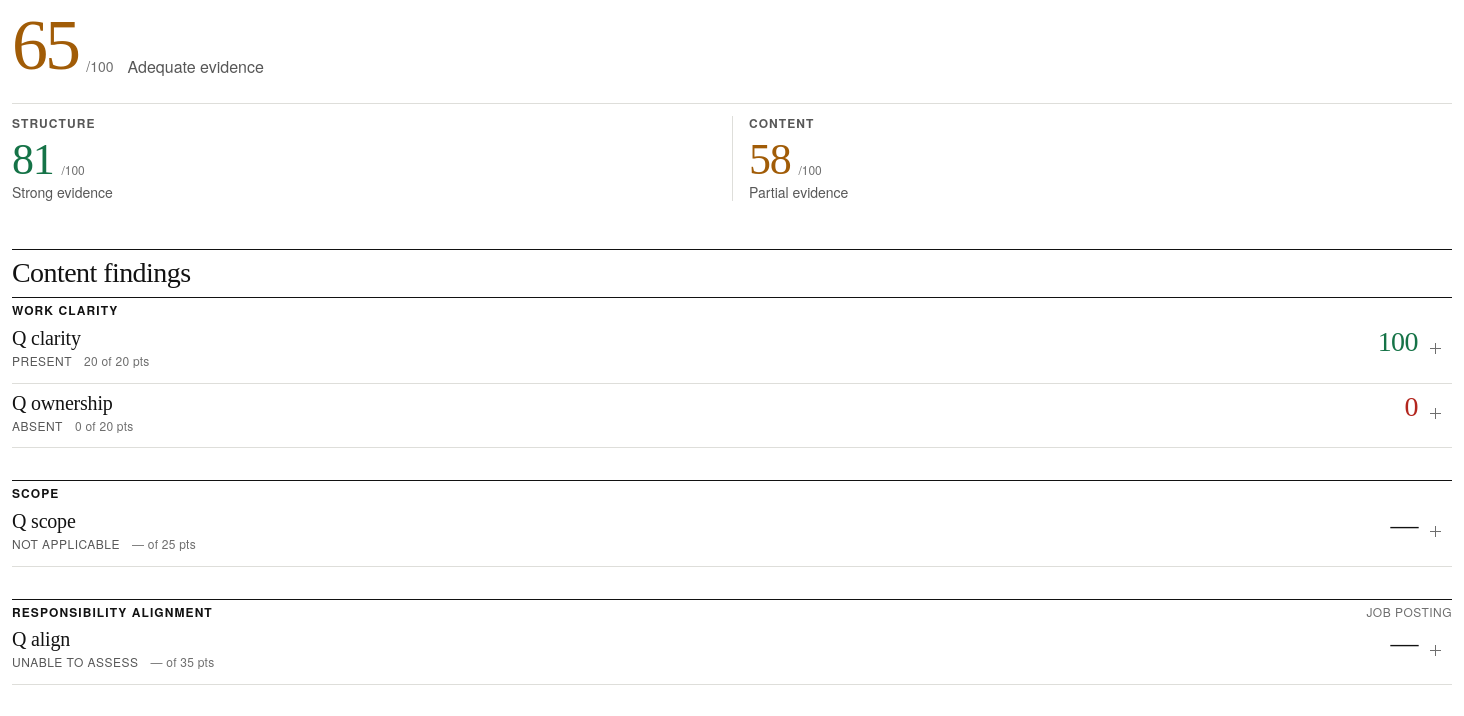
keeps a missing distribution explicit
This screenshot has width=1464, height=716.
Click the button "Q align Unable to assess — of 35 pts —" at (41, 639), box [12,620,1452,684]
(page scrolled)
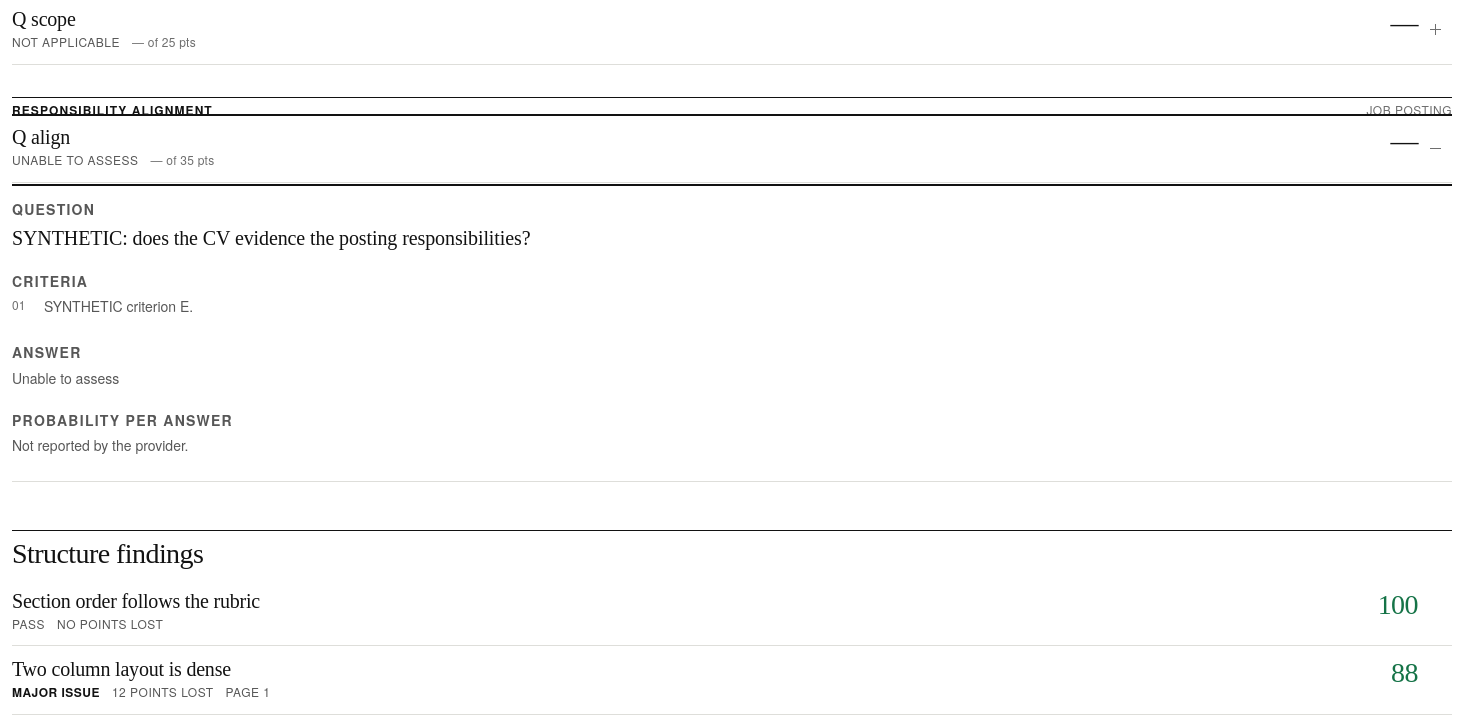
Check: the element with class "fdetail" shows "Not reported by the provider.", box [12,435,188,455]
